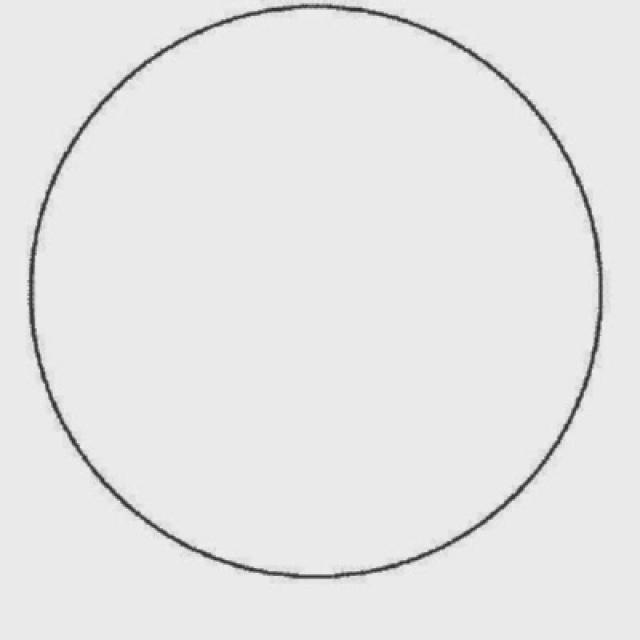Circle: (29, 4, 602, 578)
